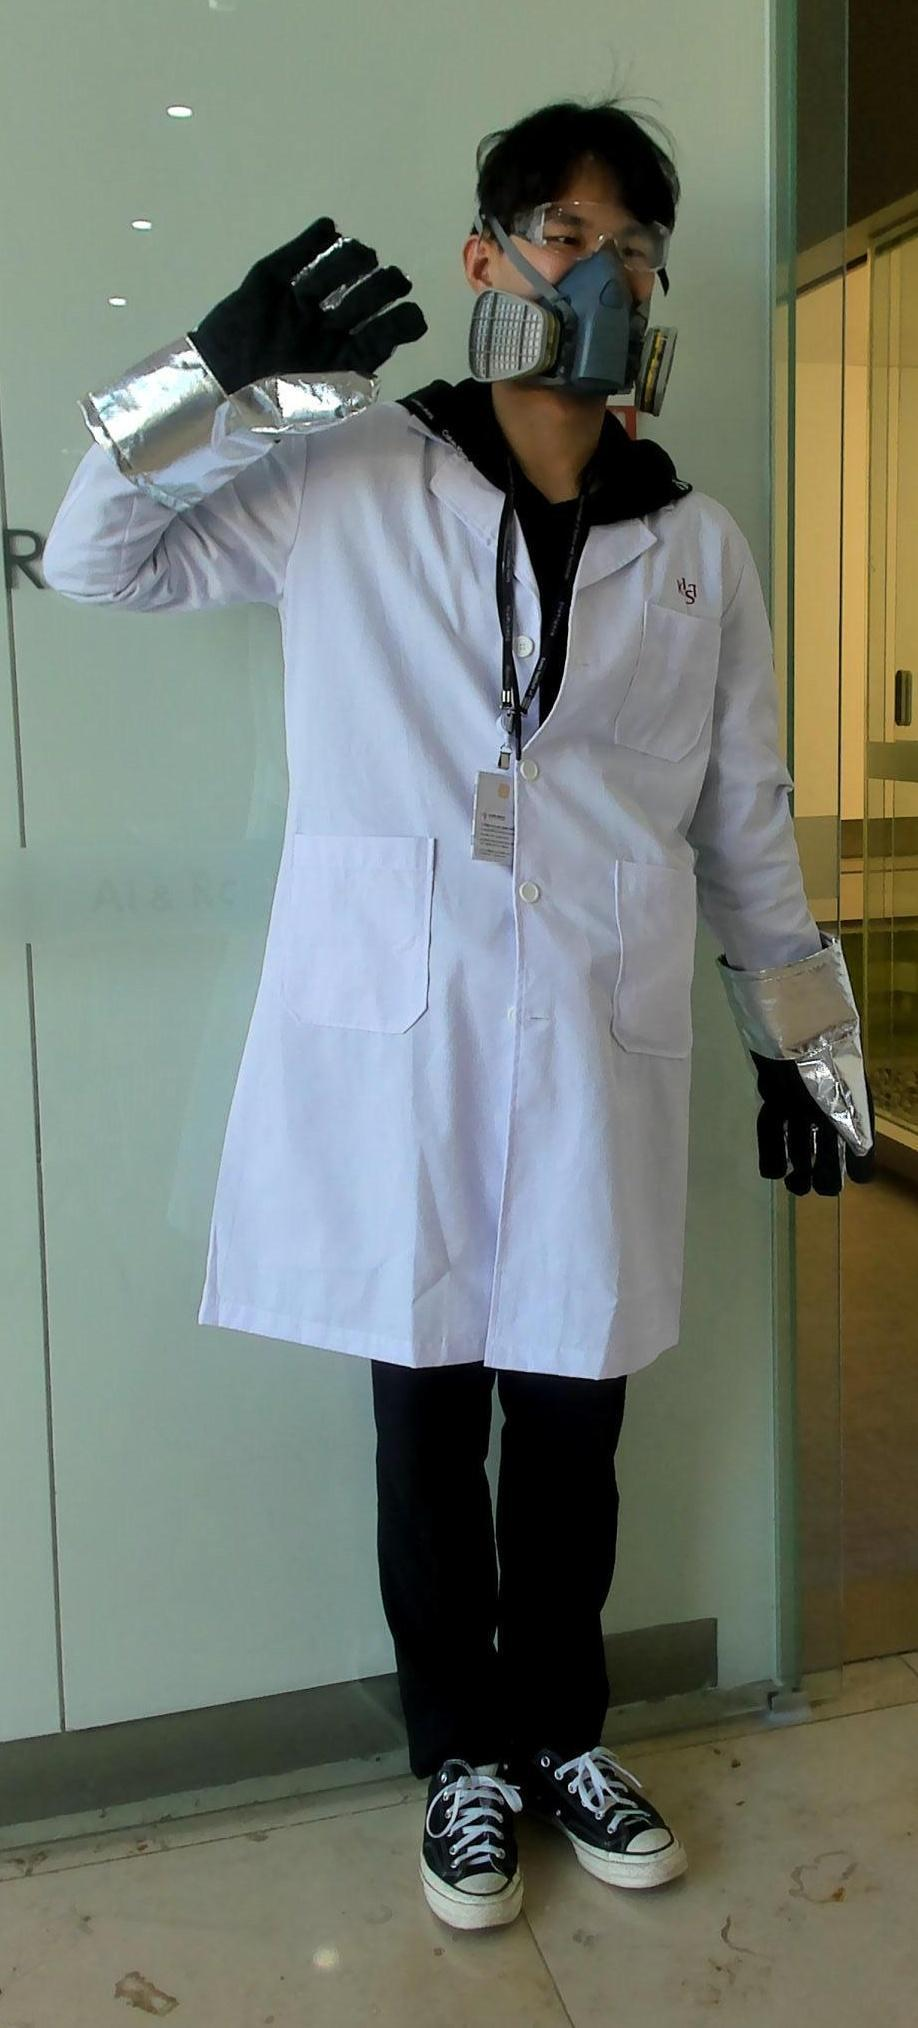lab_coat: (250, 511, 727, 1348)
